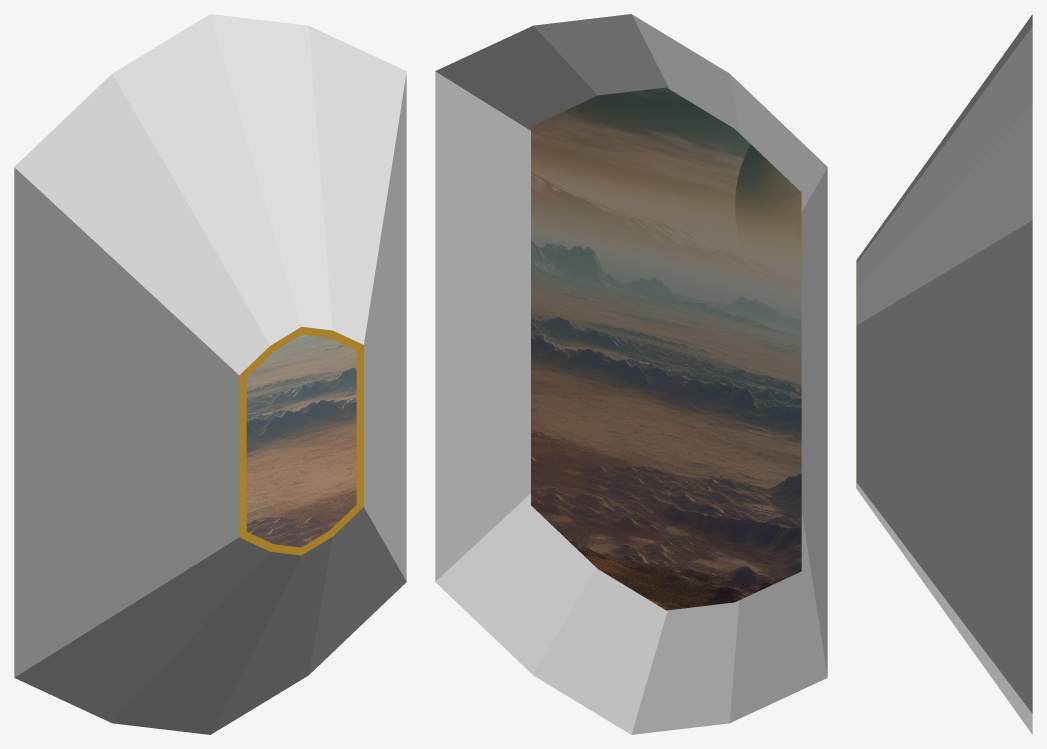
The model's file is portal_test.glb.
3 views of the same model, side by side, from view 1: azimuth 30°, elevation 25°; view 2: azimuth 150°, elevation 25°; view 3: azimuth 270°, elevation 25° (orthographic). The views are drawn at different scales.
Parts seen in each view (by area): view 1: Portal; view 2: Portal; view 3: Portal.
Part boxes in pixels (x1=…): Portal: x1=14, y1=14, x2=406, y2=734; Portal: x1=435, y1=14, x2=827, y2=734; Portal: x1=856, y1=14, x2=1032, y2=734.
Size of the model in its own units: 6.3 by 11.06 by 2.53.
Materials: 3 (1 with a texture image).
